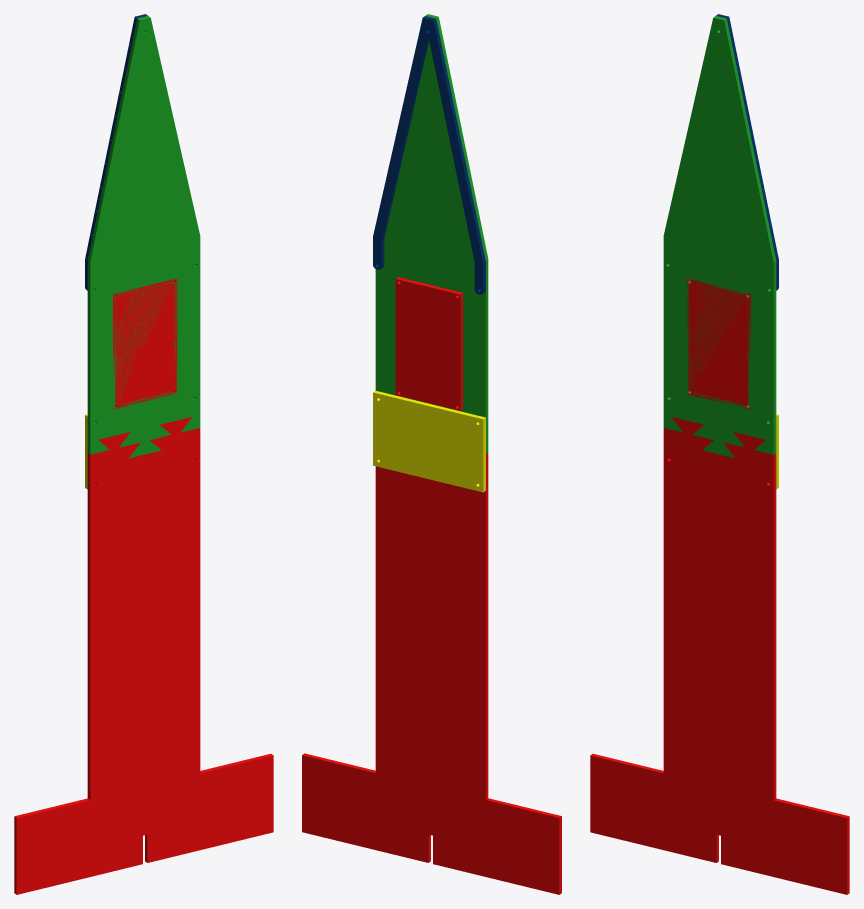
The model's file is birch.glb.
The picture shows the model from 3 angles, left to right: view 1: azimuth 30°, elevation 25°; view 2: azimuth 150°, elevation 25°; view 3: azimuth 330°, elevation 25°; orthographic projection.
Parts seen in each view (by area): view 1: ⦰樠; view 2: ⦰樠; view 3: ⦰樠.
Part boxes in pixels (<box>): ⦰樠: <box>14,14,273,894</box>; ⦰樠: <box>302,14,561,894</box>; ⦰樠: <box>590,14,849,894</box>.
Size of the model in its own units: 350 by 1100 by 12.
